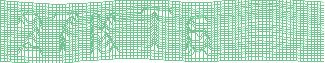2: (15, 10, 46, 58)
6: (182, 13, 217, 59)
7: (51, 10, 80, 57)
K: (88, 12, 122, 57)
T: (139, 4, 176, 54)
